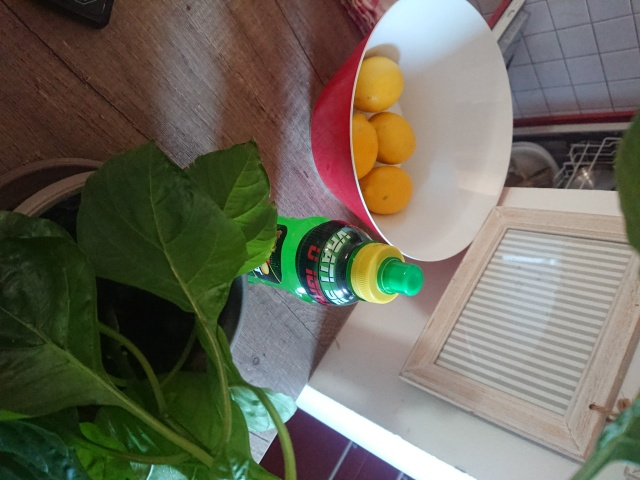Vindi Iso Sport Lemon-Grapefruit 500mL: (213, 210, 428, 310)
